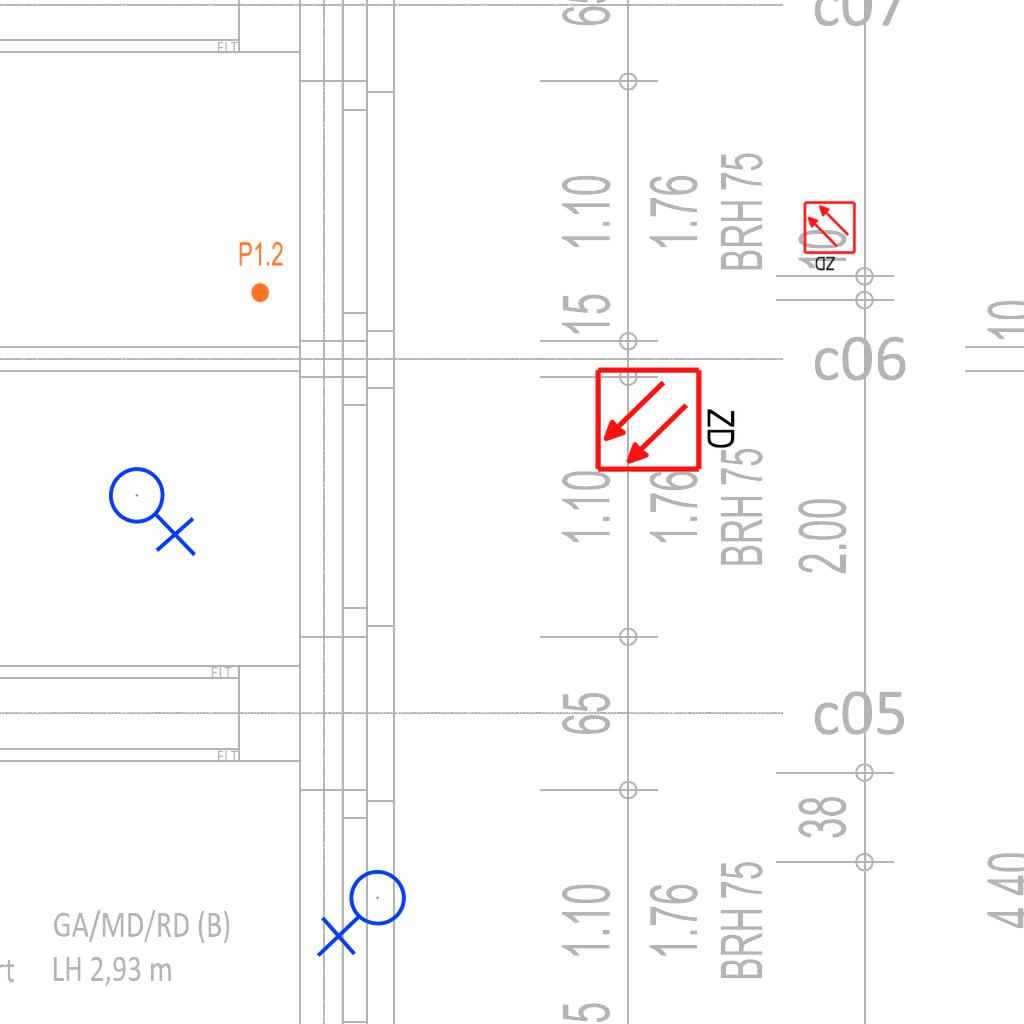Downlight_LED_Einbauleuchten_Flur: (238, 240, 284, 304)
Elektroanschluss_allgemein_230V_Geraeteanschlussdose_230V: (316, 868, 415, 962), (107, 458, 201, 557)
ZD_Melder_in_Zwischendecke_mit_Revisionsoeffnung_mind_40_x_40_cm: (593, 361, 742, 475), (802, 200, 859, 274)
